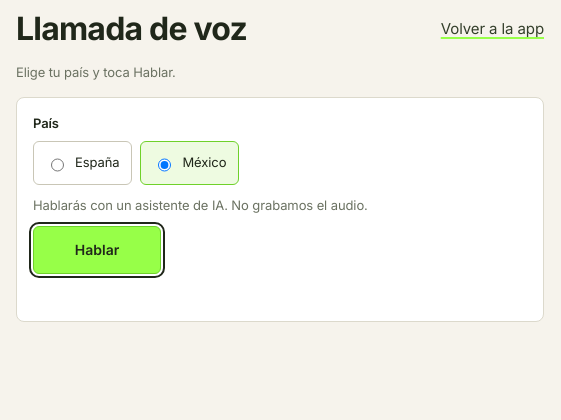
Test: voice page › the control toggles aria-pressed and its name, Esc ends, and focus stays on the control
The image size is (561, 420).
Click the button "Hablar": (97, 250) [33, 226, 161, 274]
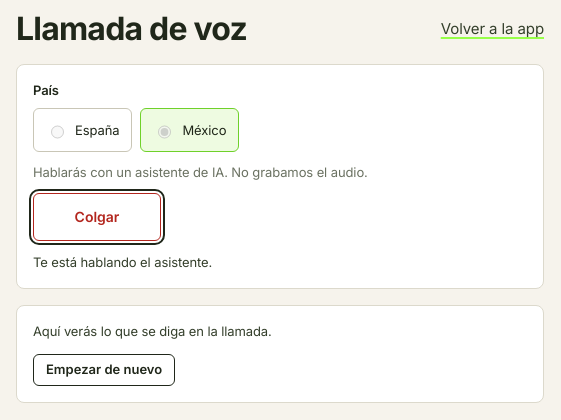
Now the button named "Hablar" is pressed, box [33, 193, 161, 241]
Press Escape
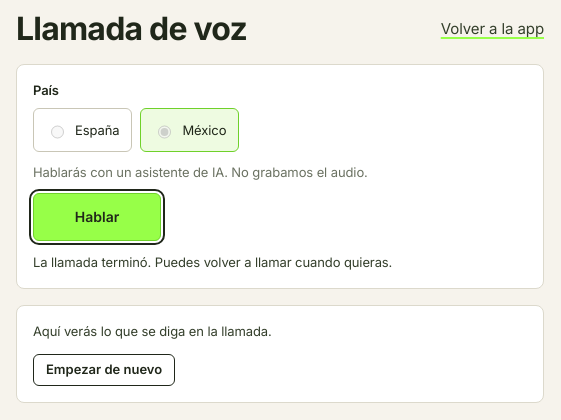
Now the message reads "La llamada terminó. Puedes volver a llamar cuando quieras.", box [33, 254, 392, 270]
Click the button "Hablar": (97, 217) [33, 193, 161, 241]
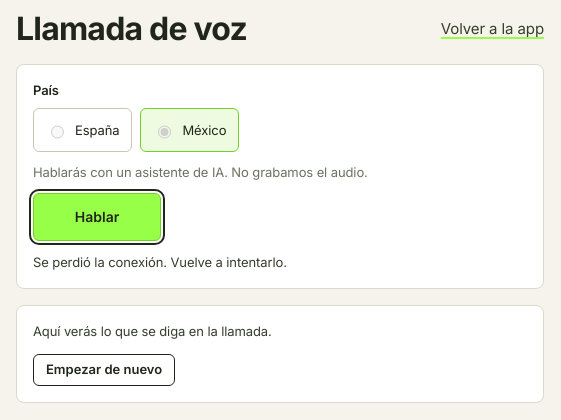
Now the message reads "Se perdió la conexión. Vuelve a intentarlo.", box [33, 254, 287, 270]
